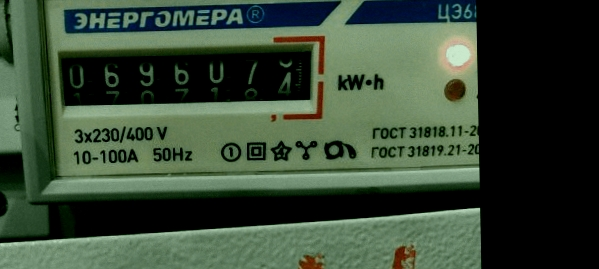0: (65, 60, 85, 90), (206, 54, 225, 84)
4: (273, 69, 293, 97)
6: (99, 58, 121, 88), (171, 57, 190, 85)
7: (241, 54, 258, 85)
9: (136, 58, 154, 88)
screen: (40, 28, 327, 124)
